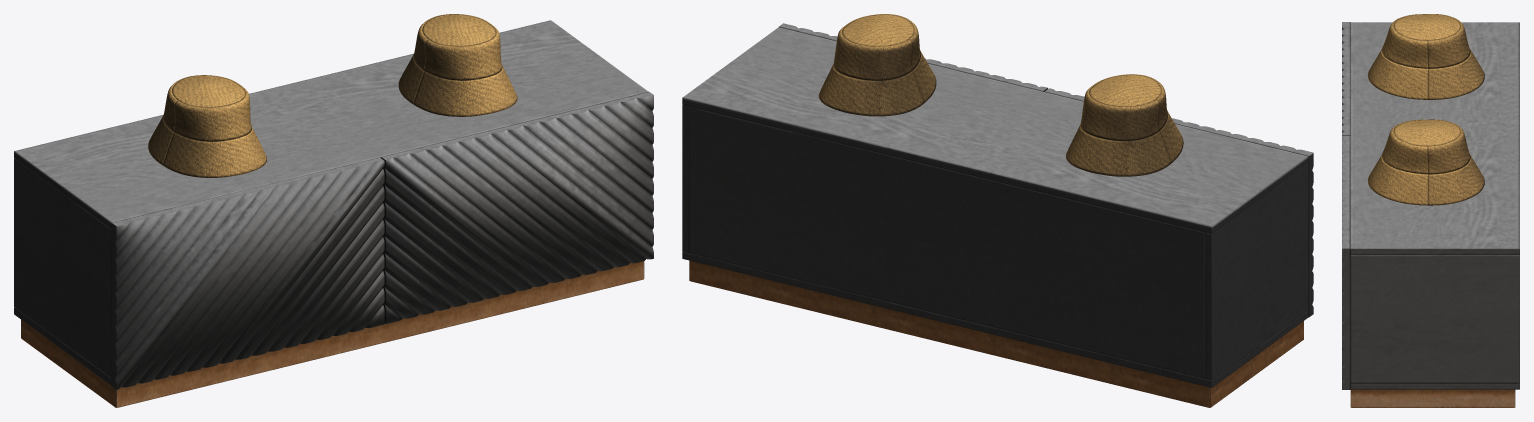
File: Shelf_SideShelf1_1.3x0.6x0.5.glb
3 views of the same model, side by side, from view 1: azimuth 30°, elevation 25°; view 2: azimuth 150°, elevation 25°; view 3: azimuth 270°, elevation 25° (orthographic). The views are drawn at different scales.
Visible parts, largest first — view 1: Short_side_shelf_Baked; view 2: Short_side_shelf_Baked; view 3: Short_side_shelf_Baked.
Boxes of the visible parts, bbox=[...] form: Short_side_shelf_Baked: bbox=[14, 14, 653, 407]; Short_side_shelf_Baked: bbox=[682, 14, 1313, 407]; Short_side_shelf_Baked: bbox=[1342, 14, 1519, 407].
Bounding box in the file's own units: 1.22 × 0.5571 × 0.4042.
Materials: 1 (1 with a texture image).
